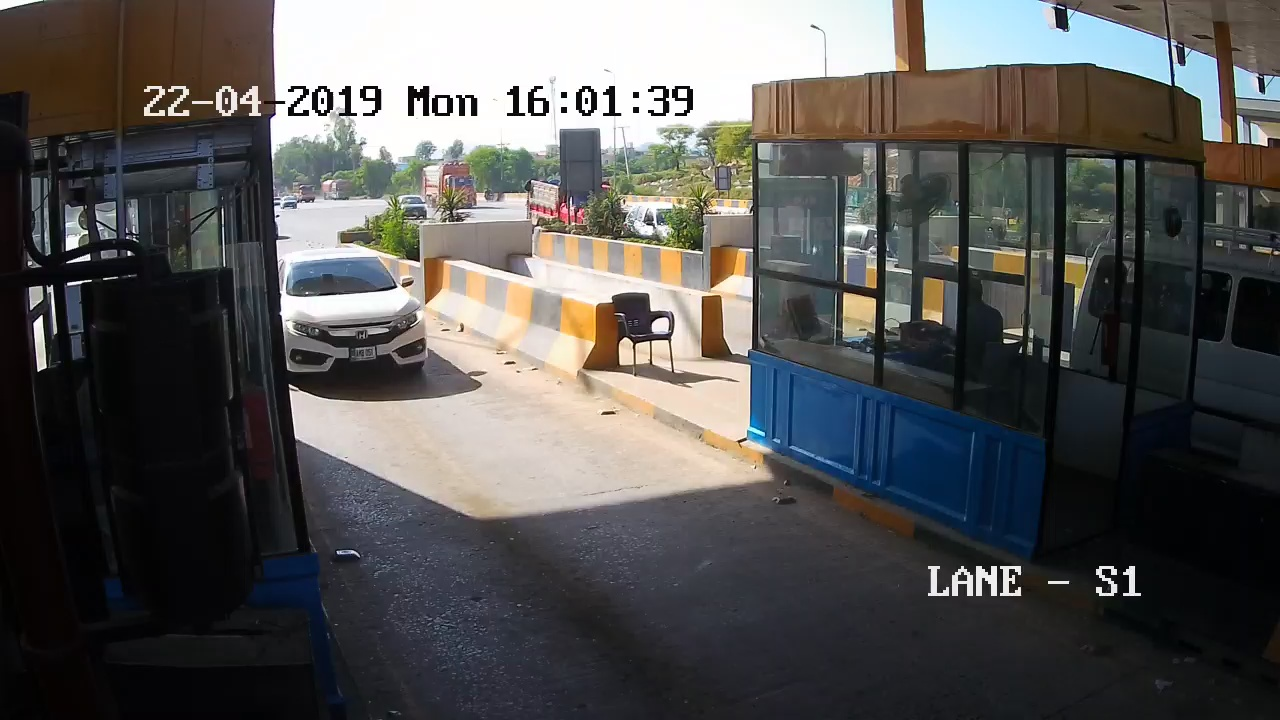car: (282, 250, 445, 398)
